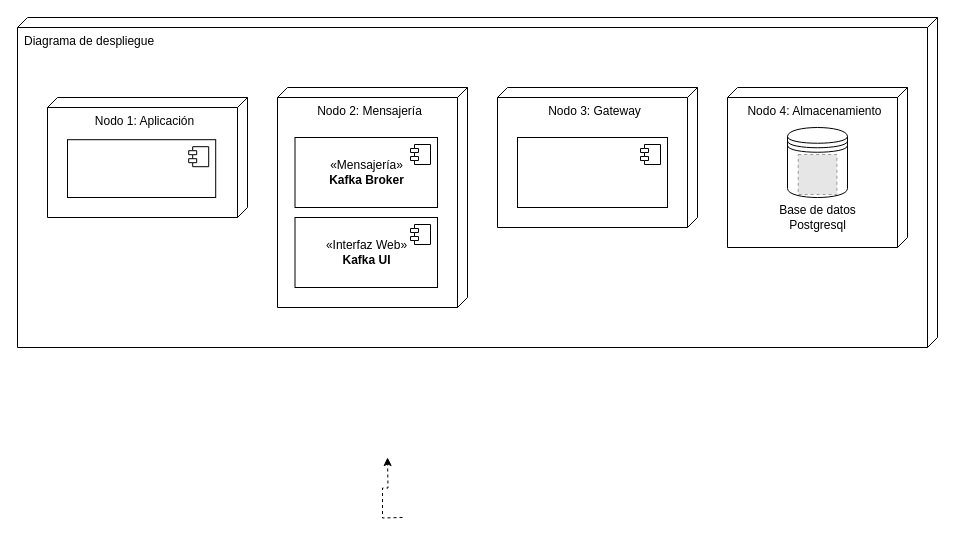
The diagram is 955 pixels wide and 544 high, and some of its shapes have lost their labels. Grey dashed boxes stand in for pictures. Each missing label, with the centre of its shape:
"«API Gateway» Kong API" goes at point (592, 172).
"«Microservicio» Schemify" goes at point (141, 168).
